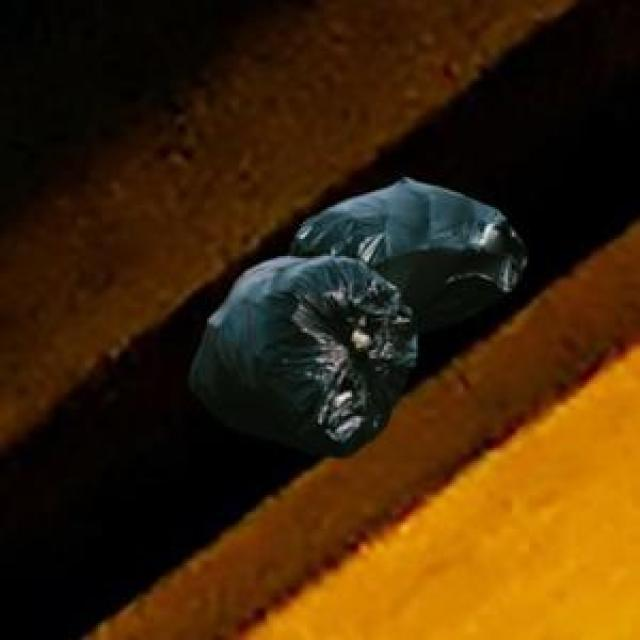Trashbag: (185, 255, 422, 458), (295, 174, 525, 292)
